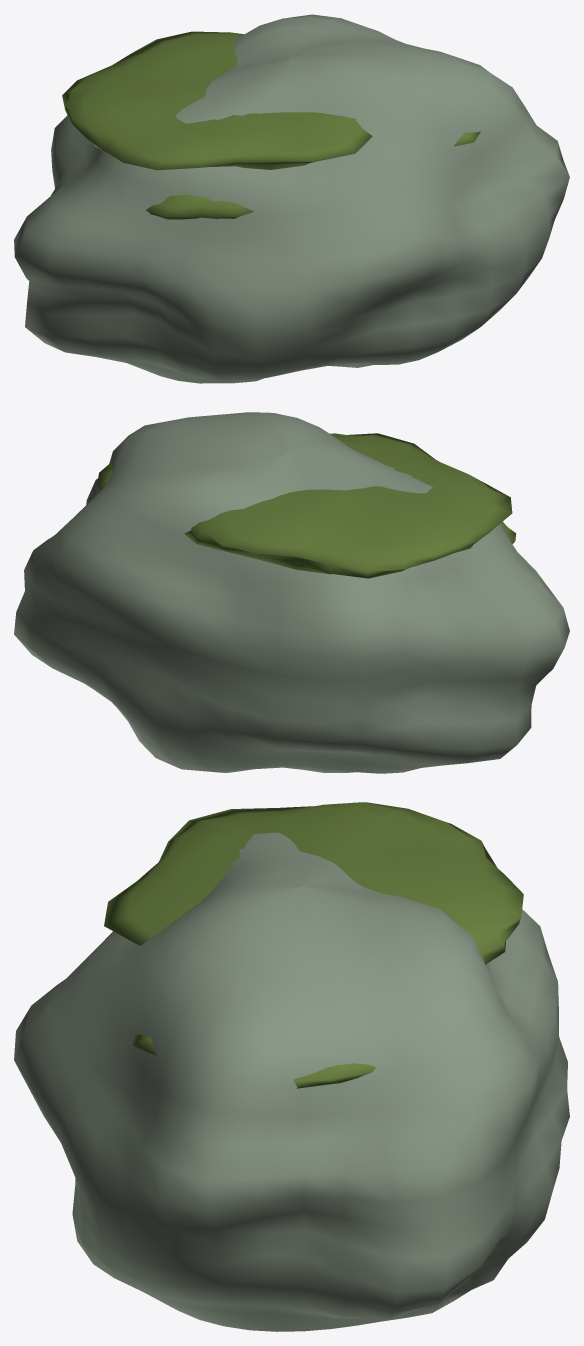
Rendered from rock.glb.
3 views of the same model, one above another, from view 1: azimuth 30°, elevation 25°; view 2: azimuth 150°, elevation 25°; view 3: azimuth 270°, elevation 25° (orthographic). The views are drawn at different scales.
Parts seen in each view (by area): view 1: rock_PaintedSculpture; view 2: rock_PaintedSculpture; view 3: rock_PaintedSculpture.
Boxes of the visible parts, left/top/right/bottom form: rock_PaintedSculpture: left=14, top=14, right=569, bottom=383; rock_PaintedSculpture: left=14, top=412, right=569, bottom=773; rock_PaintedSculpture: left=14, top=802, right=569, bottom=1331.
Bounding box in the file's own units: 2.44 × 1.29 × 1.76.
